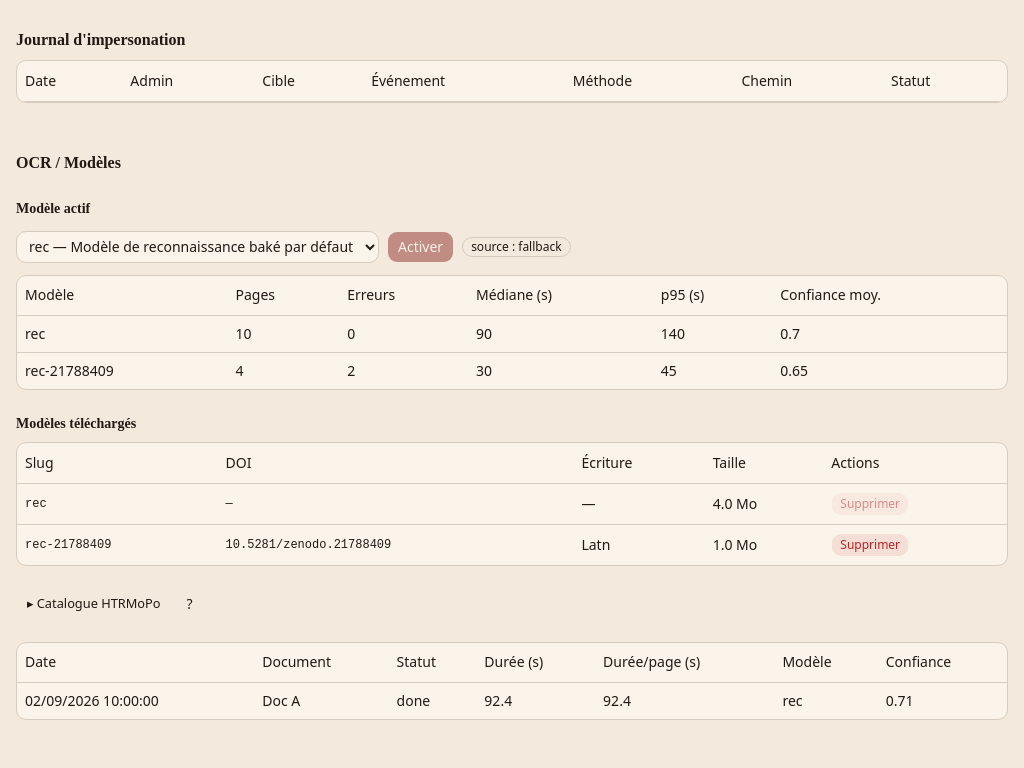
Scenario: the catalogue is lazy: no fetch until it is expanded
(page scrolled)
Click the button "▸ Catalogue HTRMoPo". click: (94, 604)
box: [16,590,172,618]
(page scrolled)
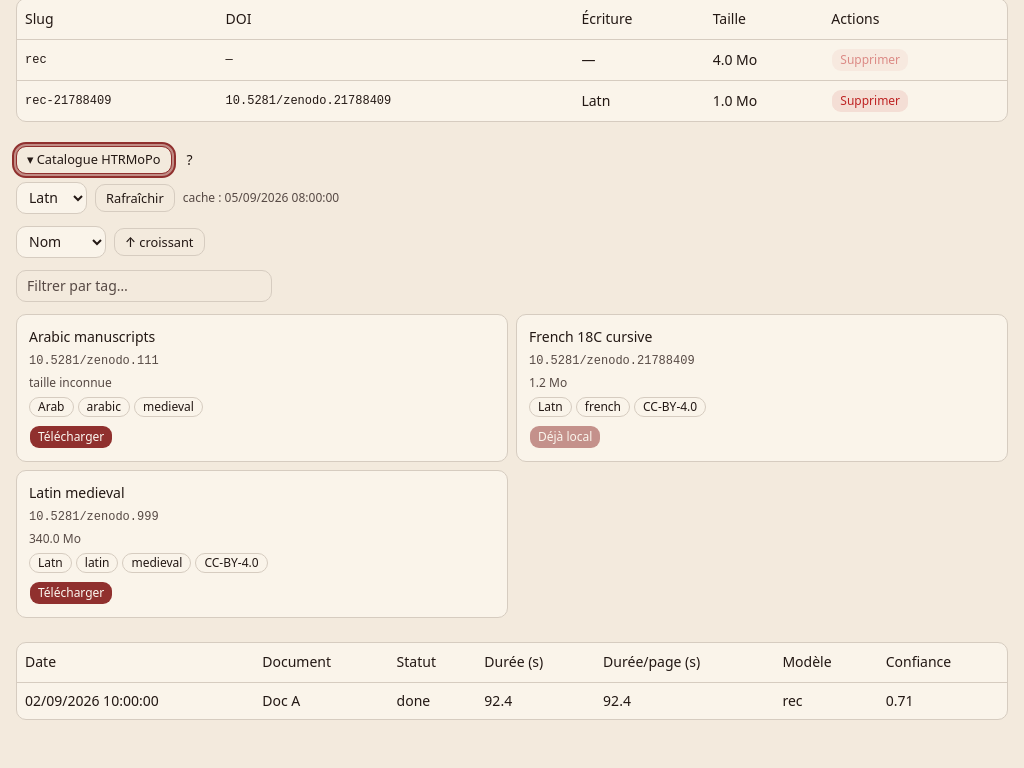
Expected: the text "Latin medieval" is shown, [29,483,125,502]
